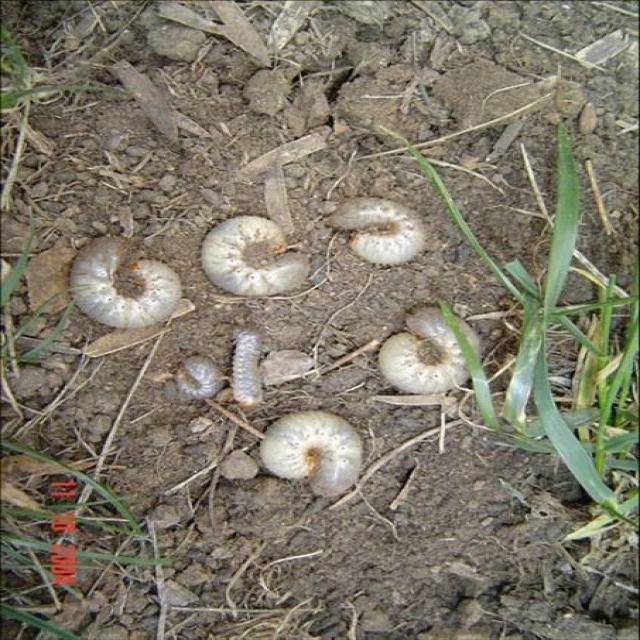grub: (366, 305, 482, 407), (73, 235, 186, 335), (203, 213, 316, 310), (253, 411, 369, 503), (326, 193, 422, 273), (234, 327, 268, 417), (168, 354, 227, 396)
